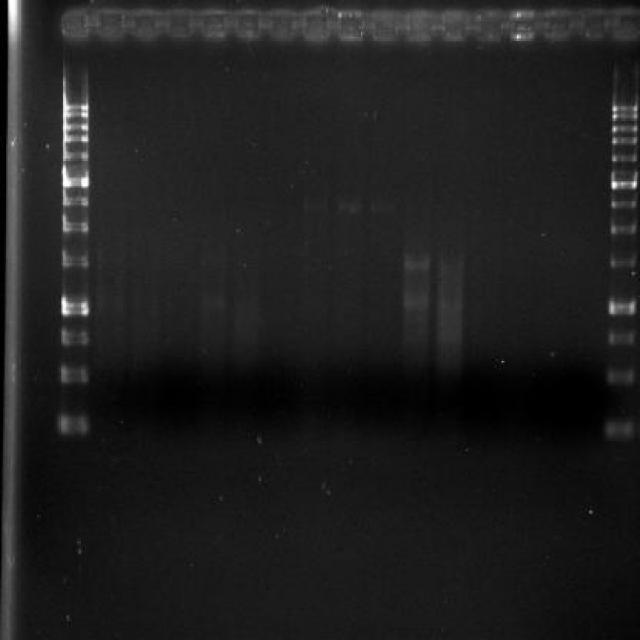B: (399, 286, 433, 312), (402, 248, 433, 274)
L: (51, 0, 640, 49)
M: (53, 59, 101, 452), (600, 54, 640, 458)
P: (56, 410, 92, 439), (603, 415, 637, 443), (58, 292, 91, 318), (604, 293, 638, 318), (59, 362, 92, 386), (60, 247, 91, 270), (58, 326, 90, 348), (61, 164, 90, 188), (606, 326, 636, 349), (609, 169, 640, 191), (61, 213, 90, 236), (605, 251, 638, 271), (606, 365, 634, 387), (61, 188, 90, 208), (61, 92, 90, 111), (608, 219, 638, 236), (611, 96, 640, 113), (62, 146, 90, 162), (610, 196, 638, 210), (61, 121, 90, 134), (610, 151, 638, 164), (62, 133, 90, 144), (610, 136, 638, 146), (610, 124, 638, 134), (62, 111, 90, 120), (610, 112, 638, 121)
Pc: (472, 5, 505, 46), (56, 5, 92, 42), (402, 5, 436, 44), (128, 3, 158, 45), (198, 3, 228, 45), (302, 3, 332, 45), (334, 5, 366, 44), (368, 2, 396, 46), (94, 5, 125, 44), (163, 3, 194, 42), (266, 5, 297, 44), (612, 3, 640, 45), (577, 3, 606, 43), (439, 5, 468, 44), (542, 4, 570, 44), (232, 6, 262, 43), (507, 6, 536, 43)
